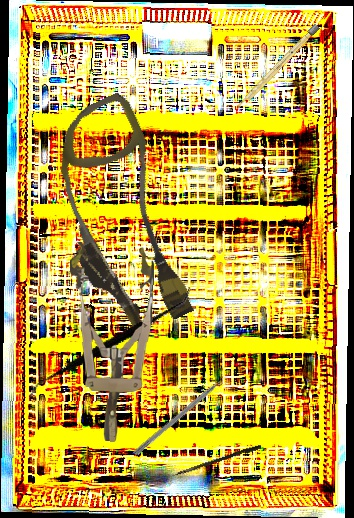Cannula: (21, 89, 221, 346)
Hook Surgical: (152, 442, 262, 488)
Pusher: (132, 370, 235, 457)
Scalpel Handle: (235, 23, 320, 112)
Spatula Surgical: (27, 244, 193, 440)
Speculum: (66, 241, 155, 443)
